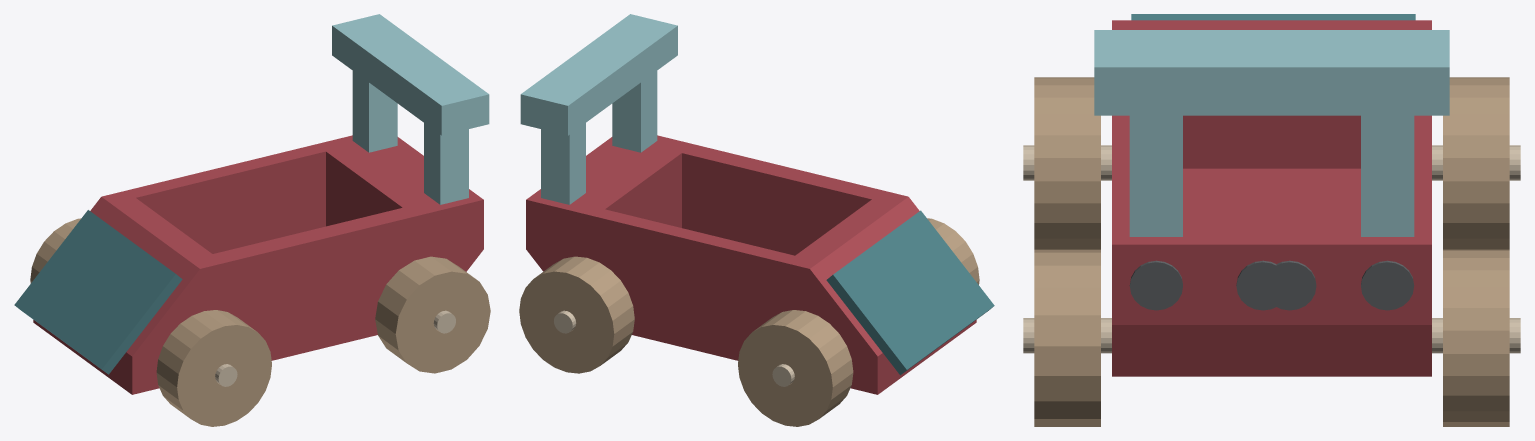
Rendered from POGObtr-2.glb.
3 views of the same model, side by side, from view 1: azimuth 30°, elevation 25°; view 2: azimuth 150°, elevation 25°; view 3: azimuth 270°, elevation 25° (orthographic). The views are drawn at different scales.
Parts seen in each view (by area): view 1: Mesh_Mesh_head_geo.001_lambert2SG.001; view 2: Mesh_Mesh_head_geo.001_lambert2SG.001; view 3: Mesh_Mesh_head_geo.001_lambert2SG.001.
Part boxes in pixels (bbox=[...]): Mesh_Mesh_head_geo.001_lambert2SG.001: bbox=[14, 14, 490, 426]; Mesh_Mesh_head_geo.001_lambert2SG.001: bbox=[519, 14, 994, 426]; Mesh_Mesh_head_geo.001_lambert2SG.001: bbox=[1023, 14, 1520, 426].
Size of the model in its own units: 39.74 by 25 by 28.
